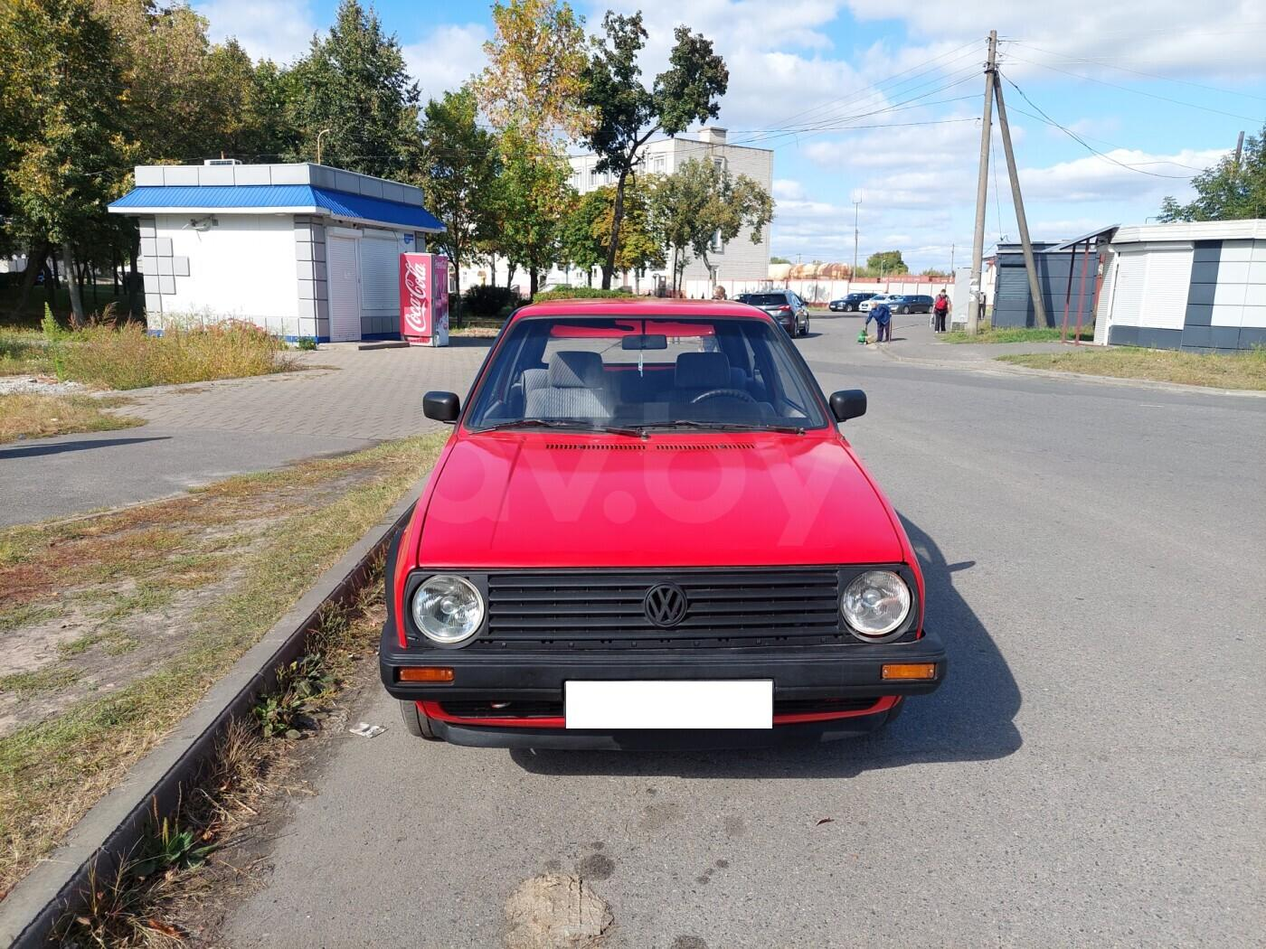Golf_1983-1992: (380, 291, 942, 755)
